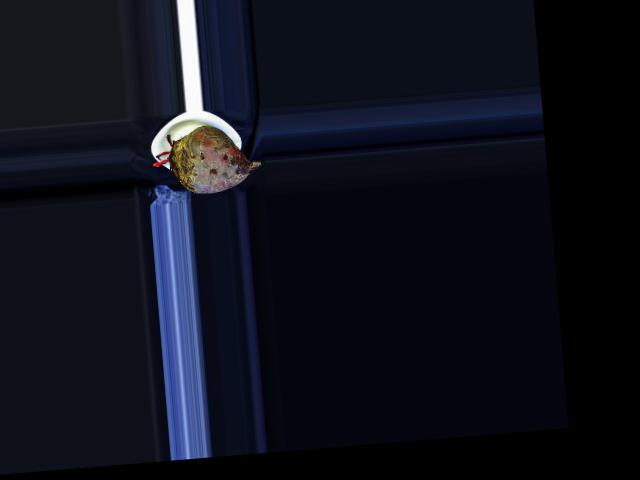beet: (149, 121, 262, 196)
